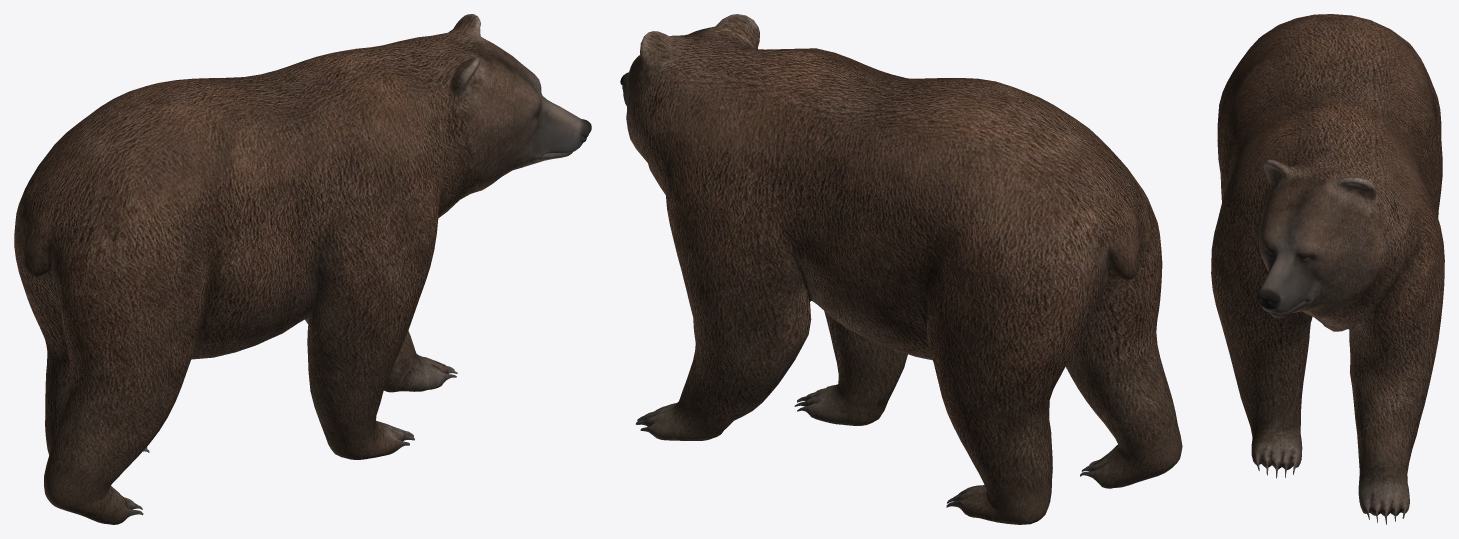
File: bear.glb
3 renders of one model, left to right at view 1: azimuth 30°, elevation 25°; view 2: azimuth 150°, elevation 25°; view 3: azimuth 270°, elevation 25°, orthographic. The views are drawn at different scales.
Visible parts, largest first — view 1: Object_4; view 2: Object_4; view 3: Object_4.
Boxes of the visible parts, x1,y1,x2,y2 form: Object_4: (14, 14, 591, 524); Object_4: (620, 14, 1182, 524); Object_4: (1211, 14, 1444, 524).
Size of the model in its own units: 0.77 by 0.512 by 0.3016.
1 material, 1 textured.
